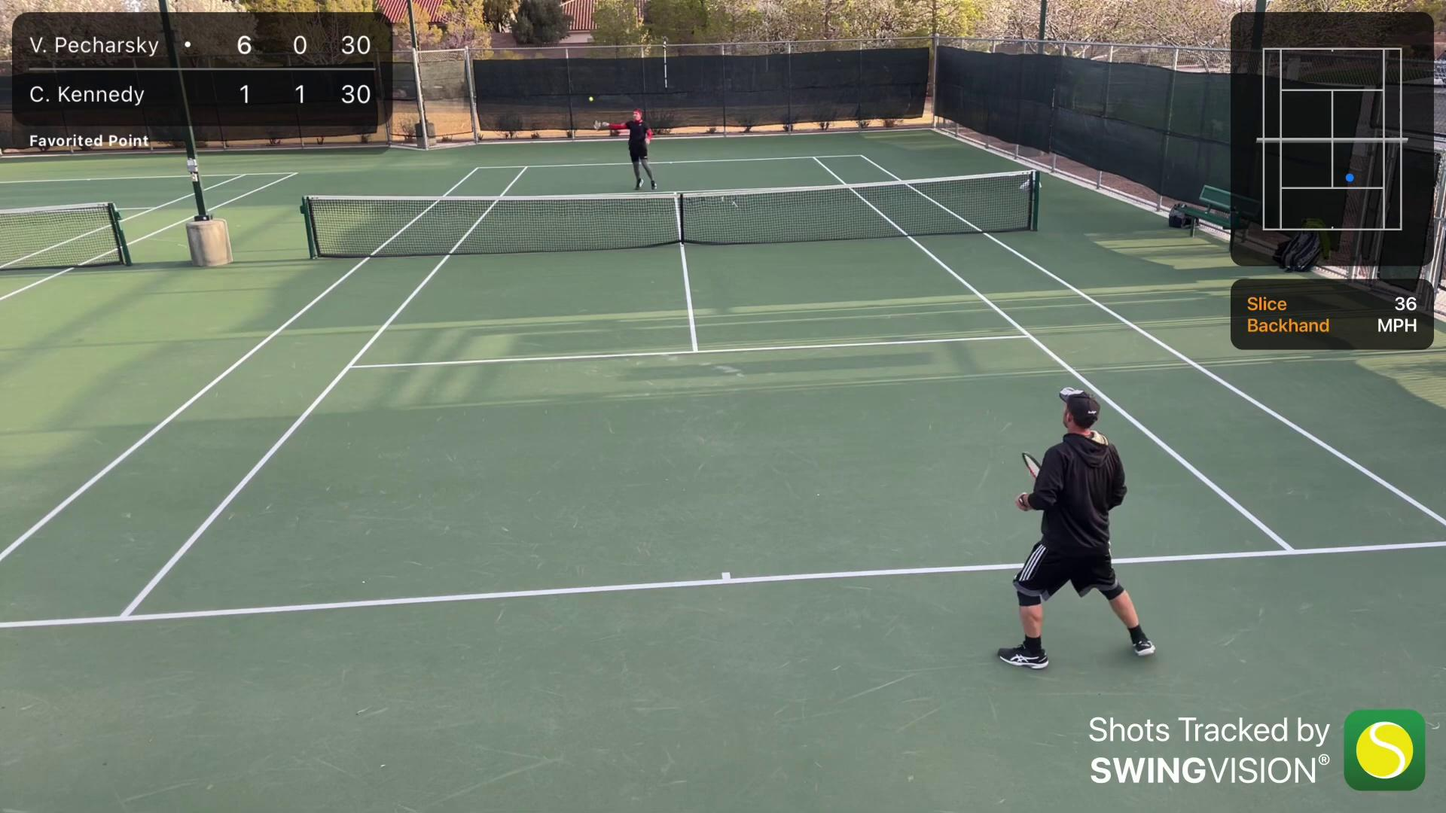ball: (587, 96, 594, 103)
